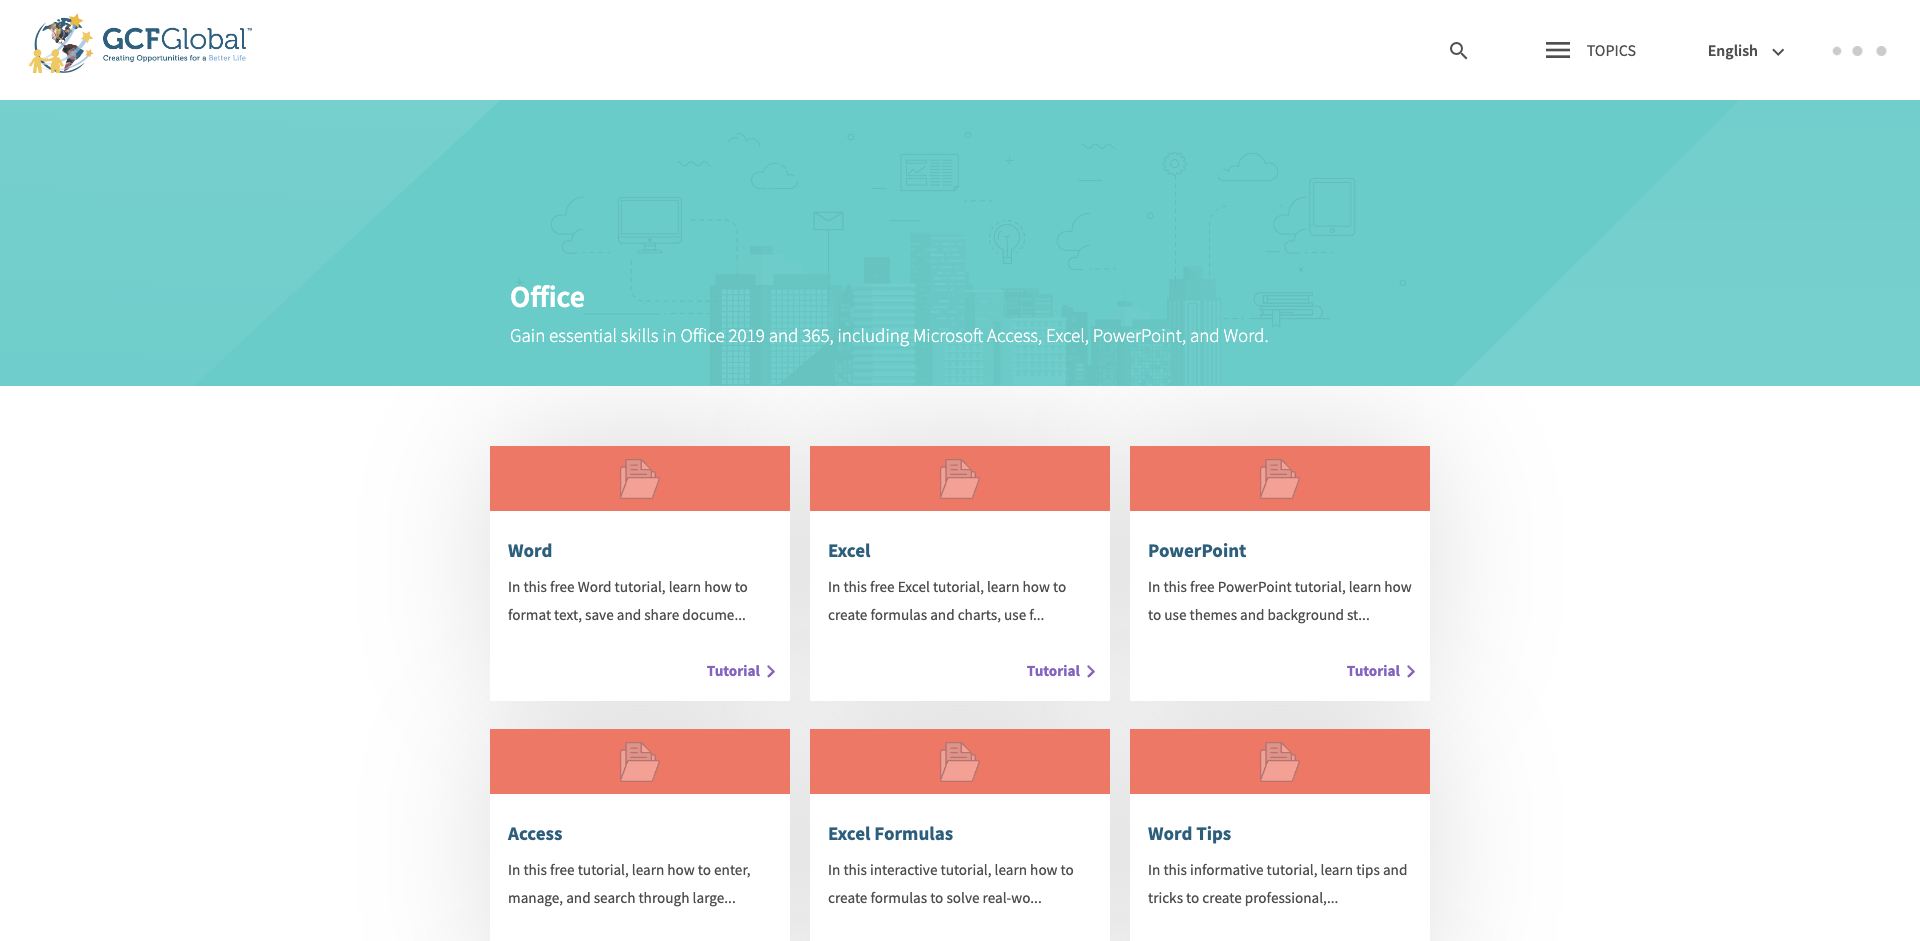button: (1509, 0, 1674, 100), (1674, 0, 1824, 100), (1409, 0, 1509, 100)
dropdown: (1674, 0, 1824, 100), (1537, 34, 1573, 66)
link: (0, 0, 290, 100), (828, 535, 1092, 565), (828, 818, 1092, 848), (508, 535, 771, 565), (1149, 535, 1412, 565), (508, 818, 771, 848), (1149, 818, 1412, 848), (707, 658, 775, 686), (1347, 658, 1416, 686), (1027, 658, 1095, 686), (707, 941, 775, 941), (1027, 941, 1095, 941), (1347, 941, 1416, 941)
